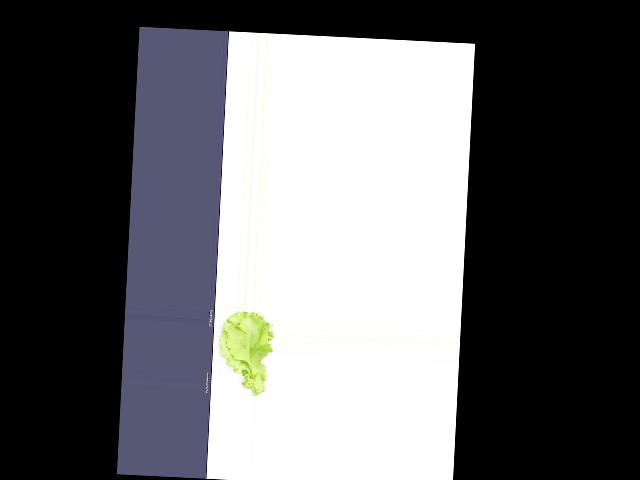lettuce: (212, 310, 275, 395)
